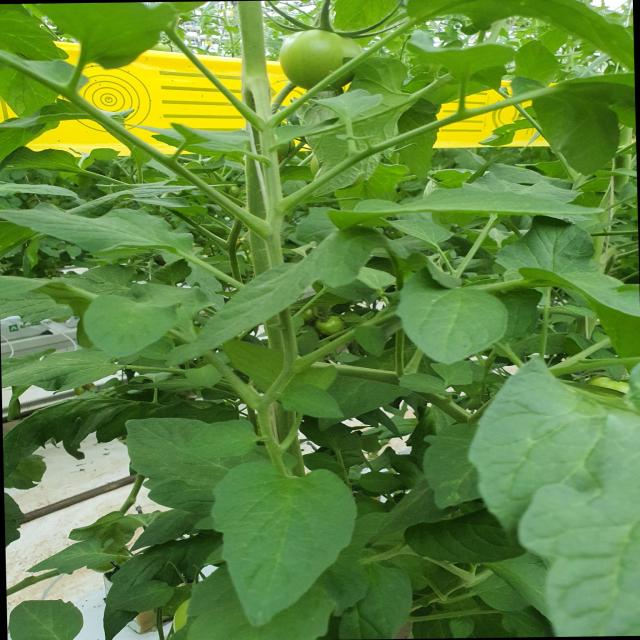Healthy Leaf: (204, 458, 371, 623), (399, 278, 520, 362), (69, 284, 200, 354)
